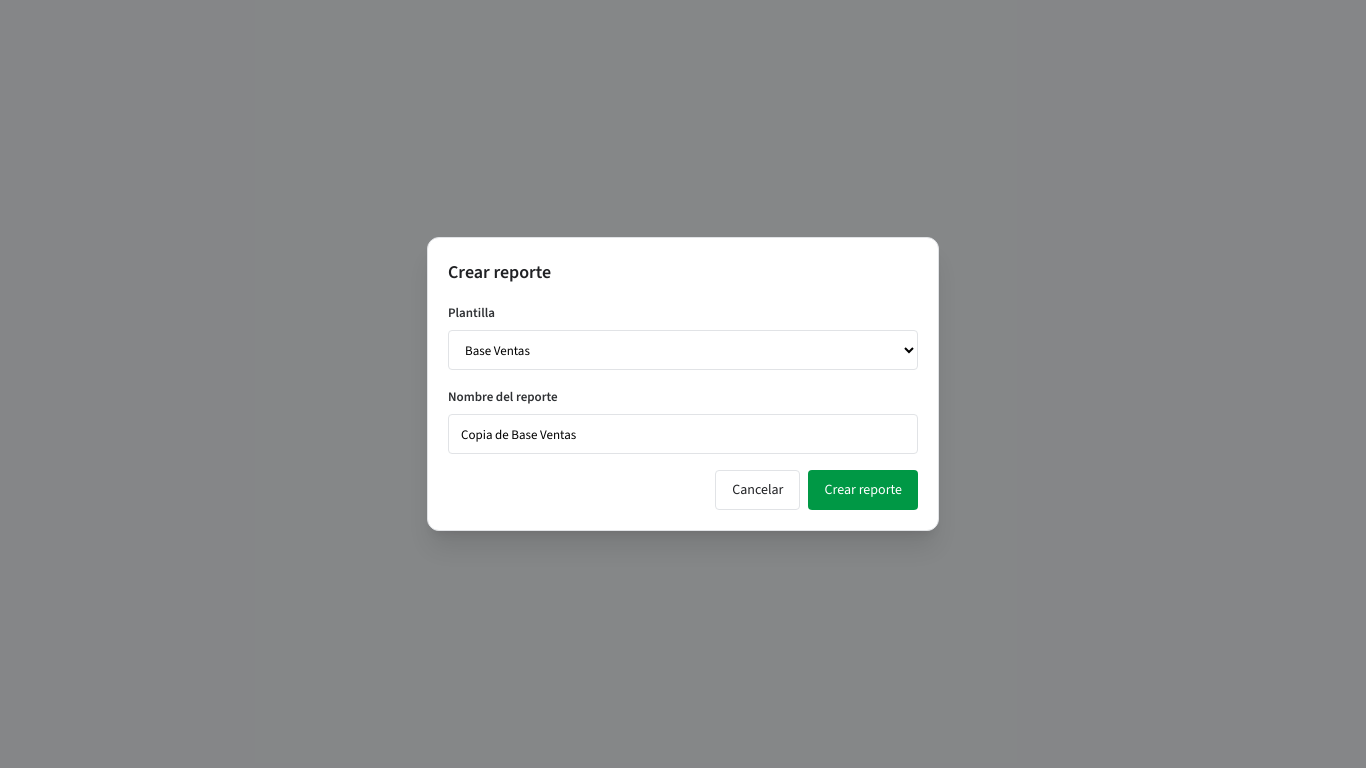
Scenario: si falla el clonado cierra la pestaña provisional y conserva el error
The image size is (1366, 768).
What coordinates should you click on to do the following:
click the button "Crear reporte"
I would click on:
 (863, 490)
Its box is x1=808 y1=470 x2=918 y2=510.
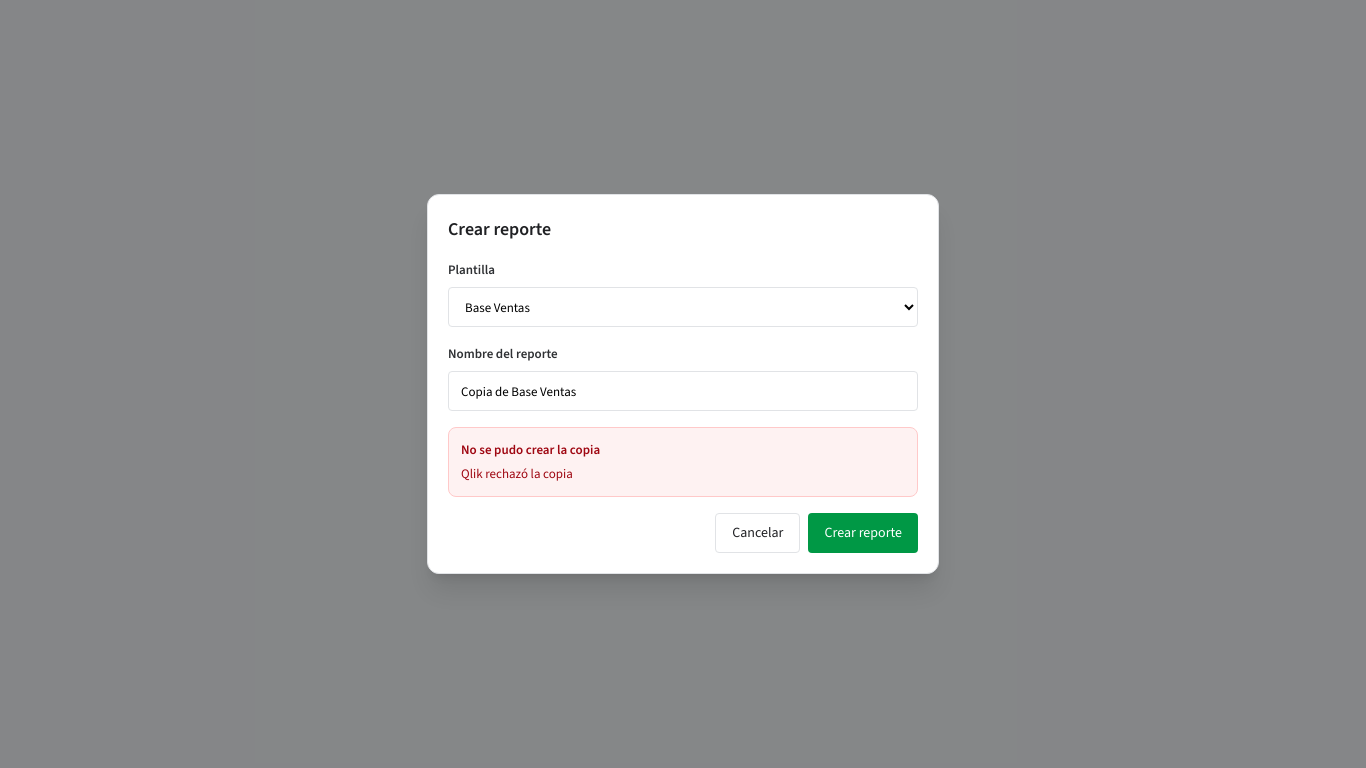
Now the text "Qlik rechazó la copia" is shown, box x1=461 y1=465 x2=573 y2=482
